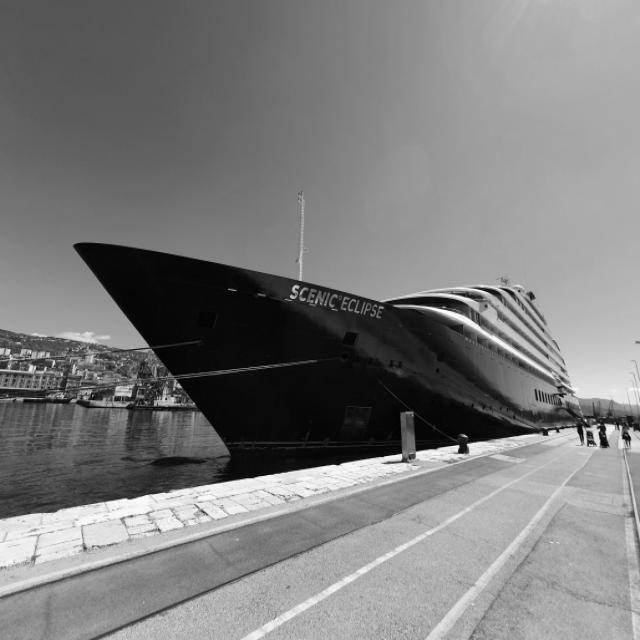cruises: (72, 203, 589, 451)
